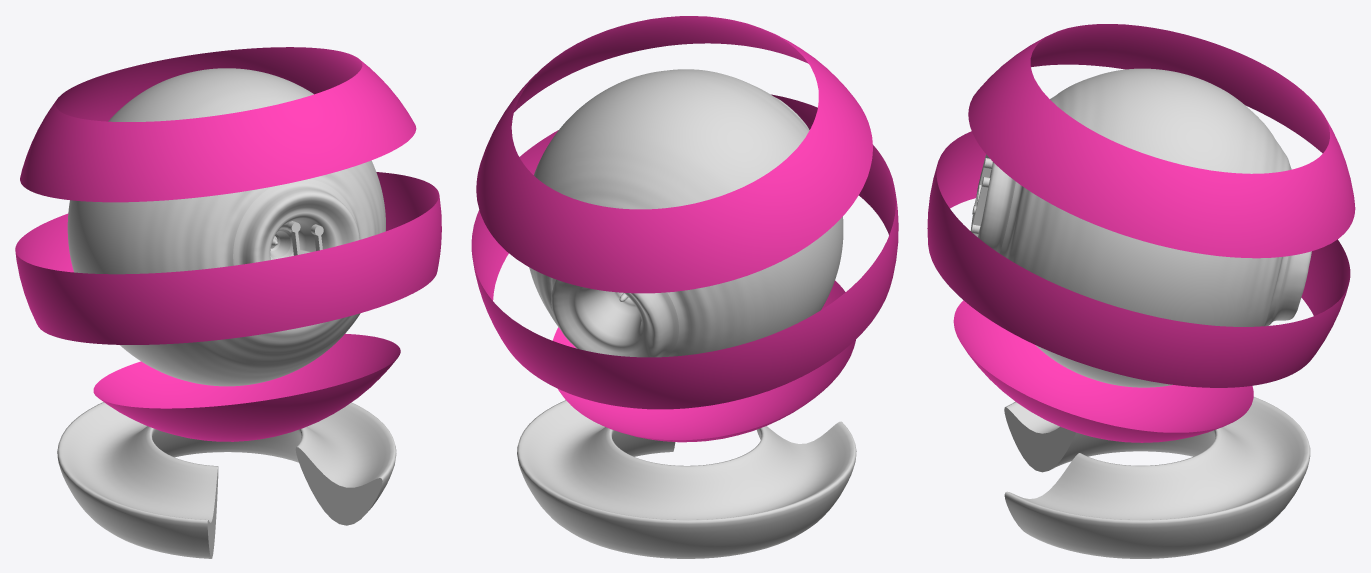
File: hifi_opacityM_albedoV.fbx
3 views of the same model, side by side, from view 1: azimuth 30°, elevation 25°; view 2: azimuth 150°, elevation 25°; view 3: azimuth 270°, elevation 25° (orthographic).
Parts seen in each view (by area): view 1: Icosphere.001; view 2: Icosphere.001; view 3: Icosphere.001.
Boxes of the visible parts, x1,y1,x2,y2 form: Icosphere.001: (15, 47, 441, 558); Icosphere.001: (471, 16, 898, 558); Icosphere.001: (927, 24, 1355, 558).
Size of the model in its own units: 83.99 by 102 by 83.99.
